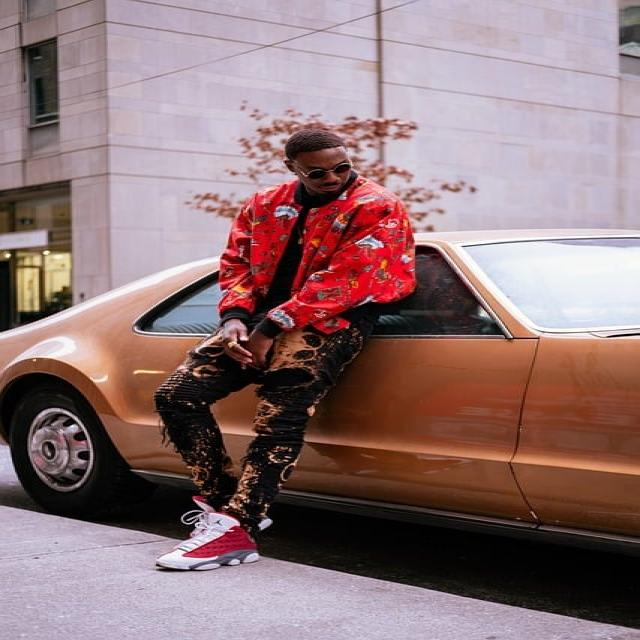Real human 2: (131, 119, 435, 570)
